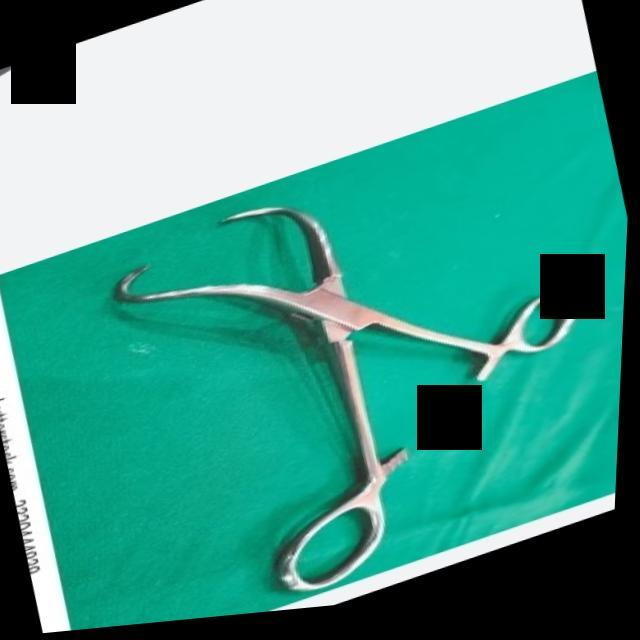Backhaus Towel Clamp: (85, 106, 634, 632)
